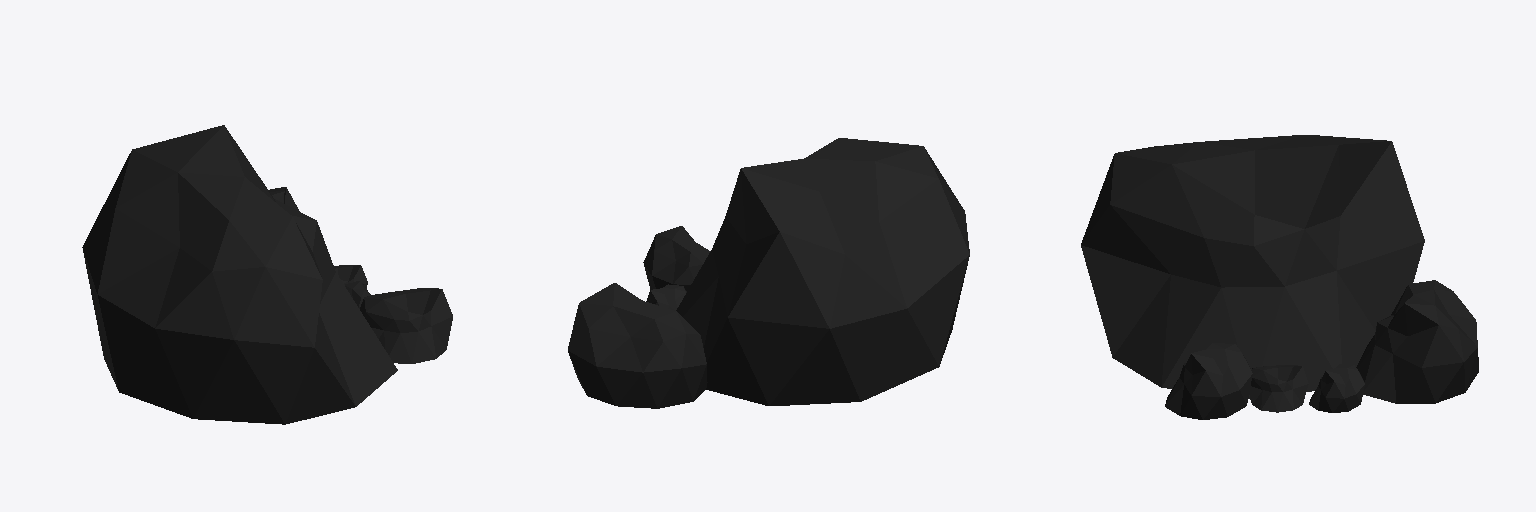
The model's file is rocks1.obj.
3 renders of one model, left to right at view 1: azimuth 30°, elevation 25°; view 2: azimuth 150°, elevation 25°; view 3: azimuth 270°, elevation 25°, orthographic.
Parts seen in each view (by area): view 1: Icosphere, Icosphere.001; view 2: Icosphere, Icosphere.002, Icosphere.001, Icosphere.003; view 3: Icosphere, Icosphere.002, Icosphere.001, Icosphere.003, Icosphere.004.
Part boxes in pixels (x1,y1,x2,y2): Icosphere: (82,125,397,424); Icosphere.001: (360,288,452,363); Icosphere: (676,138,969,405); Icosphere.002: (568,283,707,408); Icosphere.001: (643,226,710,290); Icosphere.003: (646,284,686,310); Icosphere: (1081,135,1424,399); Icosphere.002: (1356,280,1478,403); Icosphere.001: (1165,343,1252,419); Icosphere.003: (1249,365,1308,412); Icosphere.004: (1309,364,1364,412).
Size of the model in its own units: 2.06 by 1.4 by 2.3.